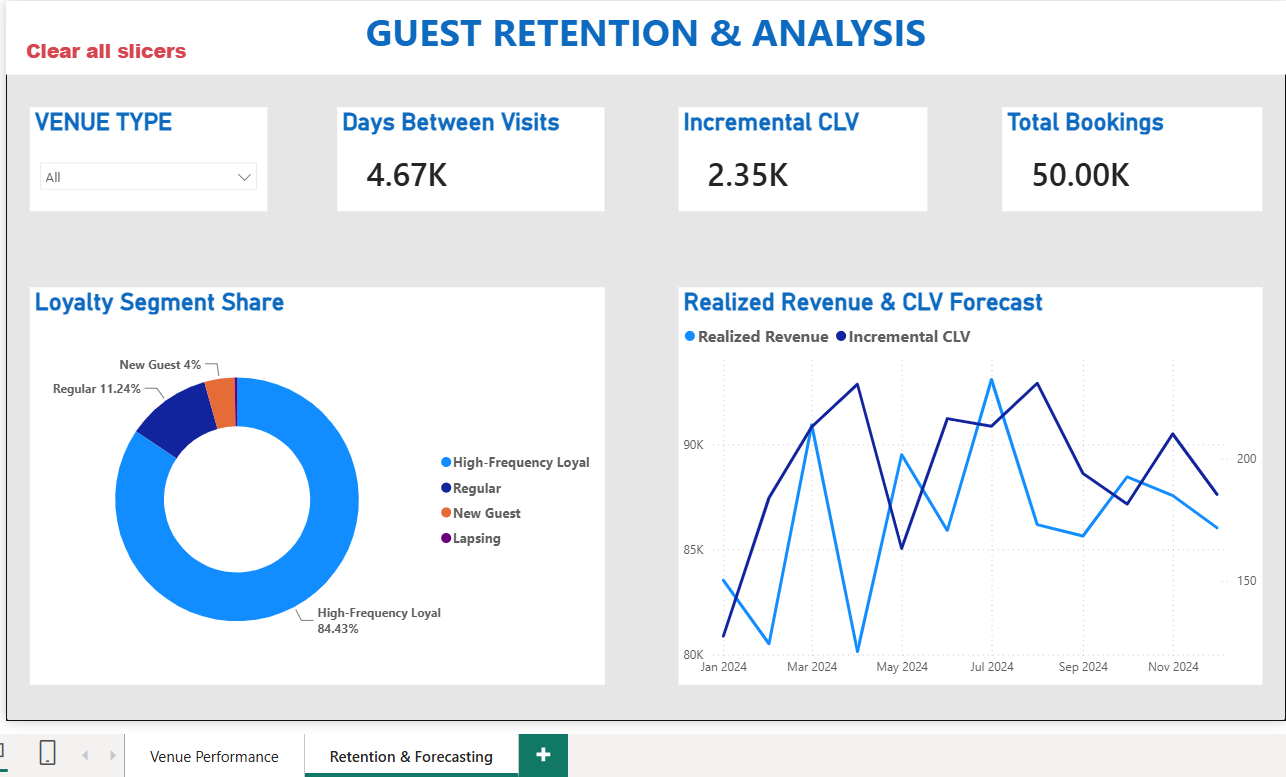

The page's visual inventory and layout, read from the dashboard file:
{"tool":"powerbi","page":{"name":"Retention & Forecasting","canvas":[1280,720],"ordinal":1},"visuals":[{"type":"textbox","box":[0,0,1280,73.8],"z":0},{"type":"actionButton","box":[0,23.8,200,50],"z":1000},{"type":"slicer","title":"VENUE TYPE","fields":{"Values":["FCT_CUSTOMER_RETENTION_FORECAST.VENUE_TYPE"]},"box":[23.8,106.2,237.5,103.8],"z":2000},{"type":"cardVisual","title":"Days Between Visits","fields":{"Data":["Sum(FCT_CUSTOMER_RETENTION_FORECAST.AVERAGE_DAYS_BETWEEN_VISIT)"]},"box":[331.2,106.2,267.5,103.8],"z":3000},{"type":"cardVisual","title":"Incremental CLV","fields":{"Data":["Sum(FCT_CUSTOMER_RETENTION_FORECAST.CUSTOMER_LIFETIME_VALUE_INCREMENT)"]},"box":[672.5,106.2,248.8,103.8],"z":4000},{"type":"cardVisual","title":"Total Bookings","fields":{"Data":["Sum(FCT_CUSTOMER_RETENTION_FORECAST.TOTAL_BOOKINGS)"]},"box":[996.2,106.2,260,103.8],"z":5000},{"type":"donutChart","title":"Loyalty Segment Share","fields":{"Category":["FCT_CUSTOMER_RETENTION_FORECAST.CUSTOMER_LOYALTY_SEGMENT"],"Y":["Sum(FCT_CUSTOMER_RETENTION_FORECAST.TOTAL_BOOKINGS)"]},"box":[23.8,286.2,575,397.5],"z":6000},{"type":"lineChart","title":"Realized Revenue & CLV Forecast","fields":{"Category":["FCT_CUSTOMER_RETENTION_FORECAST.FORECAST_MONTH"],"Y":["Sum(FCT_CUSTOMER_RETENTION_FORECAST.REALIZED_REVENUE)"],"Y2":["Sum(FCT_CUSTOMER_RETENTION_FORECAST.CUSTOMER_LIFETIME_VALUE_INCREMENT)"]},"box":[672.5,286.2,583.8,397.5],"z":7000}]}

Visuals, with their boxes on the page's 1280x720 design canvas (x1, y1, x2, y2). These are canvas units, not pixel positions in the 1286x777 screenshot, which may show the page scaled, cropped or inside an application window:
textbox: 0/0/1280/74
actionButton: 0/24/200/74
"VENUE TYPE" slicer: 24/106/261/210
"Days Between Visits" cardVisual: 331/106/599/210
"Incremental CLV" cardVisual: 672/106/921/210
"Total Bookings" cardVisual: 996/106/1256/210
"Loyalty Segment Share" donutChart: 24/286/599/684
"Realized Revenue & CLV Forecast" lineChart: 672/286/1256/684
